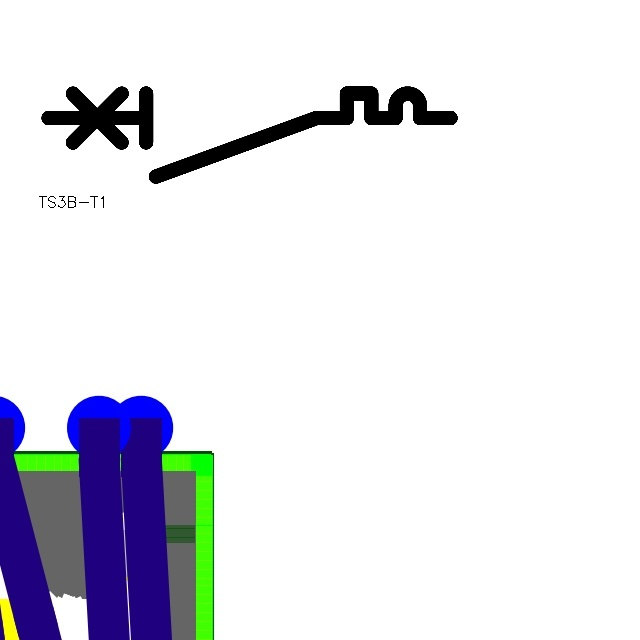interruptor_termomagnetico: (38, 83, 461, 186)
